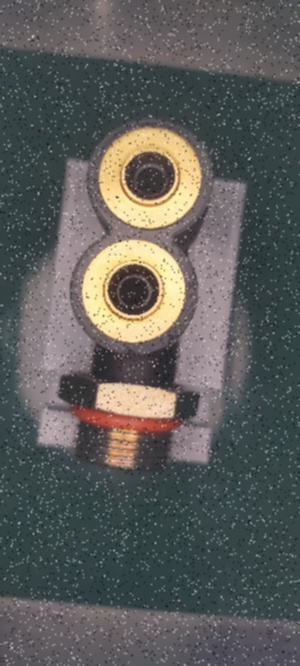bump: (157, 325, 191, 352), (116, 340, 140, 357)
white mark: (123, 371, 133, 385)
